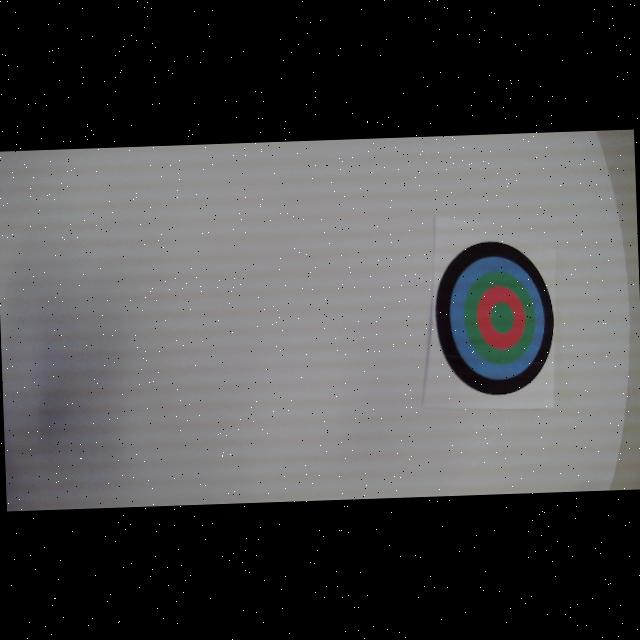COGNITIVE: (433, 238, 557, 398)
